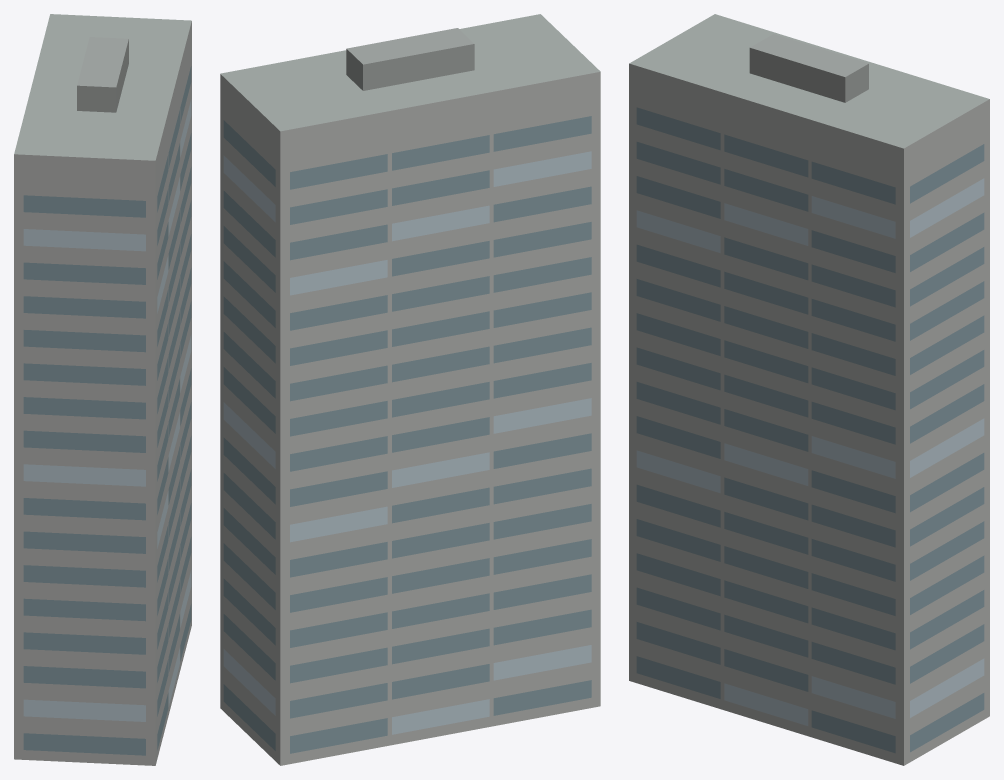
The model's file is apt-a10020267.glb.
3 views of the same model, side by side, from view 1: azimuth 30°, elevation 25°; view 2: azimuth 150°, elevation 25°; view 3: azimuth 270°, elevation 25° (orthographic). The views are drawn at different scales.
Parts seen in each view (by area): view 1: apt-a10020267; view 2: apt-a10020267; view 3: apt-a10020267.
Boxes of the visible parts, x1,y1,x2,y2 form: apt-a10020267: [14, 14, 191, 765]; apt-a10020267: [220, 14, 600, 765]; apt-a10020267: [629, 14, 989, 765].
Size of the model in its own units: 26.94 by 60 by 30.5.
